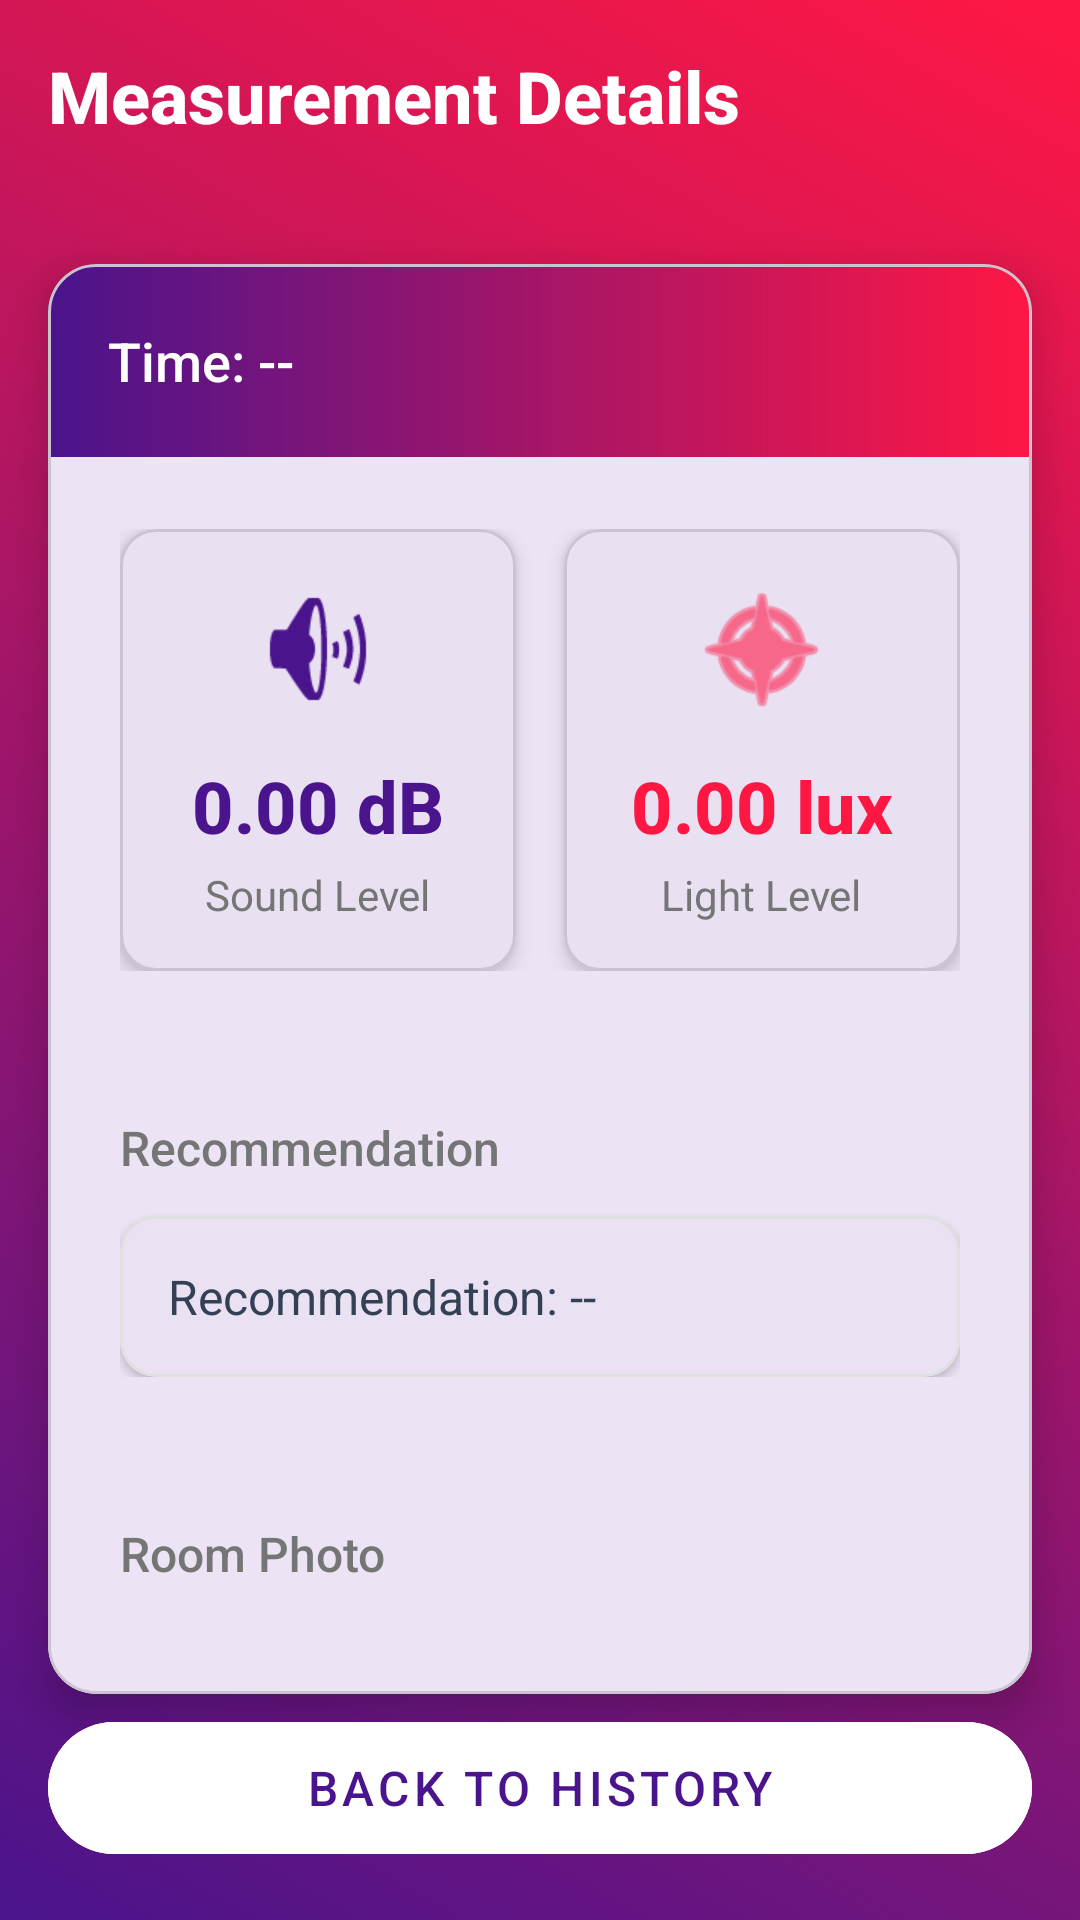

Named icons in this screenshot (1080 x 1920) and their centers, [x,y]:
compass: [761,649]
